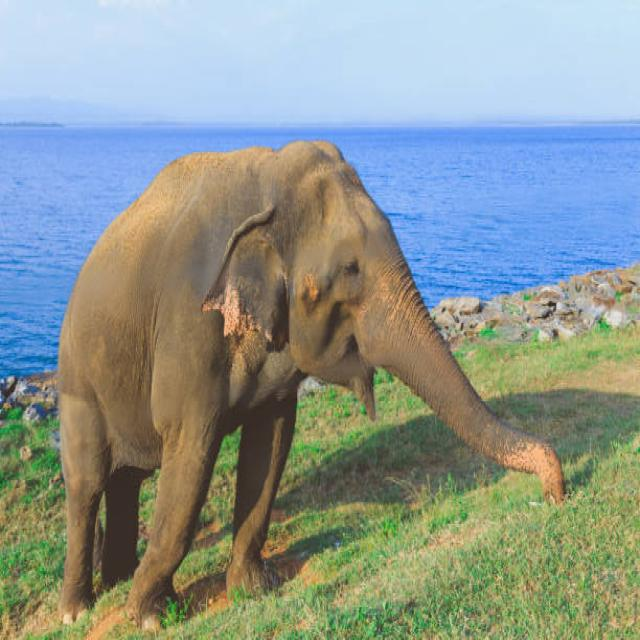Elephant: (55, 135, 554, 591)
